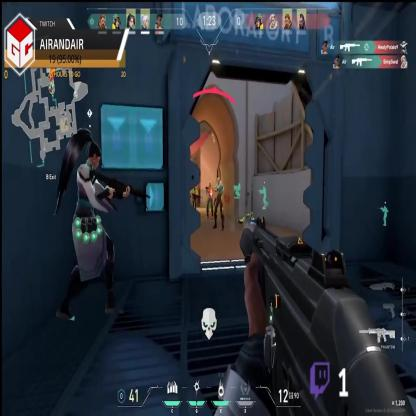enemy: (213, 177, 224, 231), (206, 181, 213, 219), (189, 183, 197, 214)
enemy_head: (216, 178, 220, 185), (208, 182, 212, 187), (192, 183, 196, 188)
